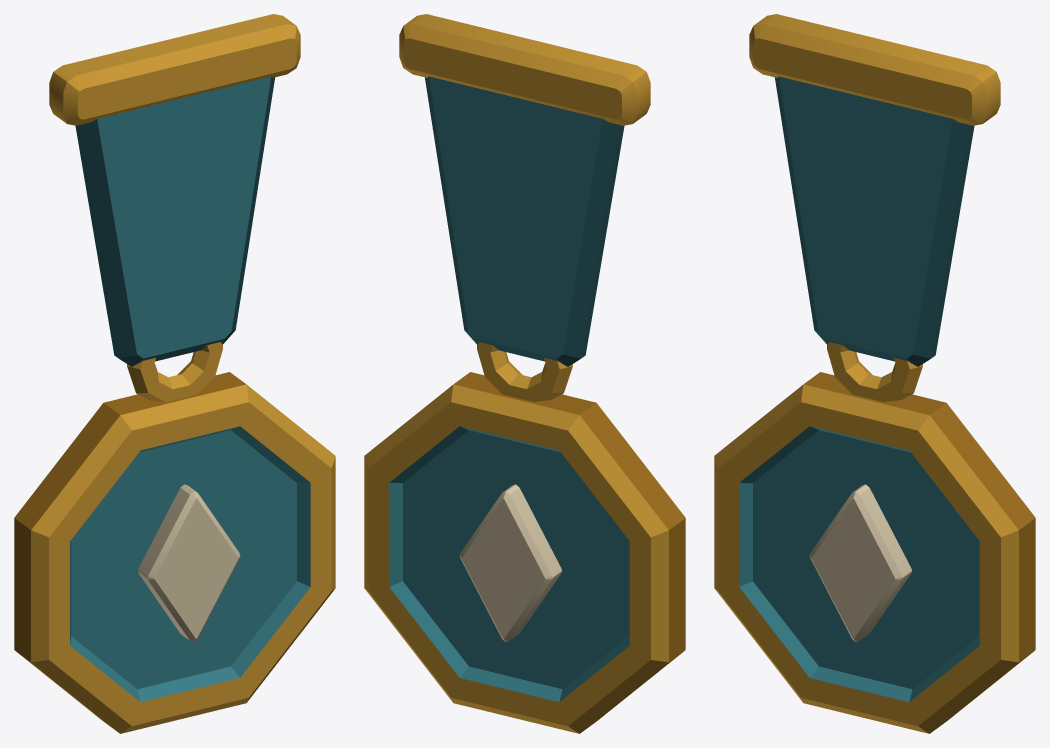
File: Medal_03.glb
The picture shows the model from 3 angles, left to right: view 1: azimuth 30°, elevation 25°; view 2: azimuth 150°, elevation 25°; view 3: azimuth 330°, elevation 25°; orthographic projection.
Visible parts, largest first — view 1: Medal_03; view 2: Medal_03; view 3: Medal_03.
Part boxes in pixels (<box>): Medal_03: <box>14,14,335,733</box>; Medal_03: <box>364,14,685,733</box>; Medal_03: <box>714,14,1035,733</box>.
Bounding box in the file's own units: 1.14 × 2.39 × 0.28.
